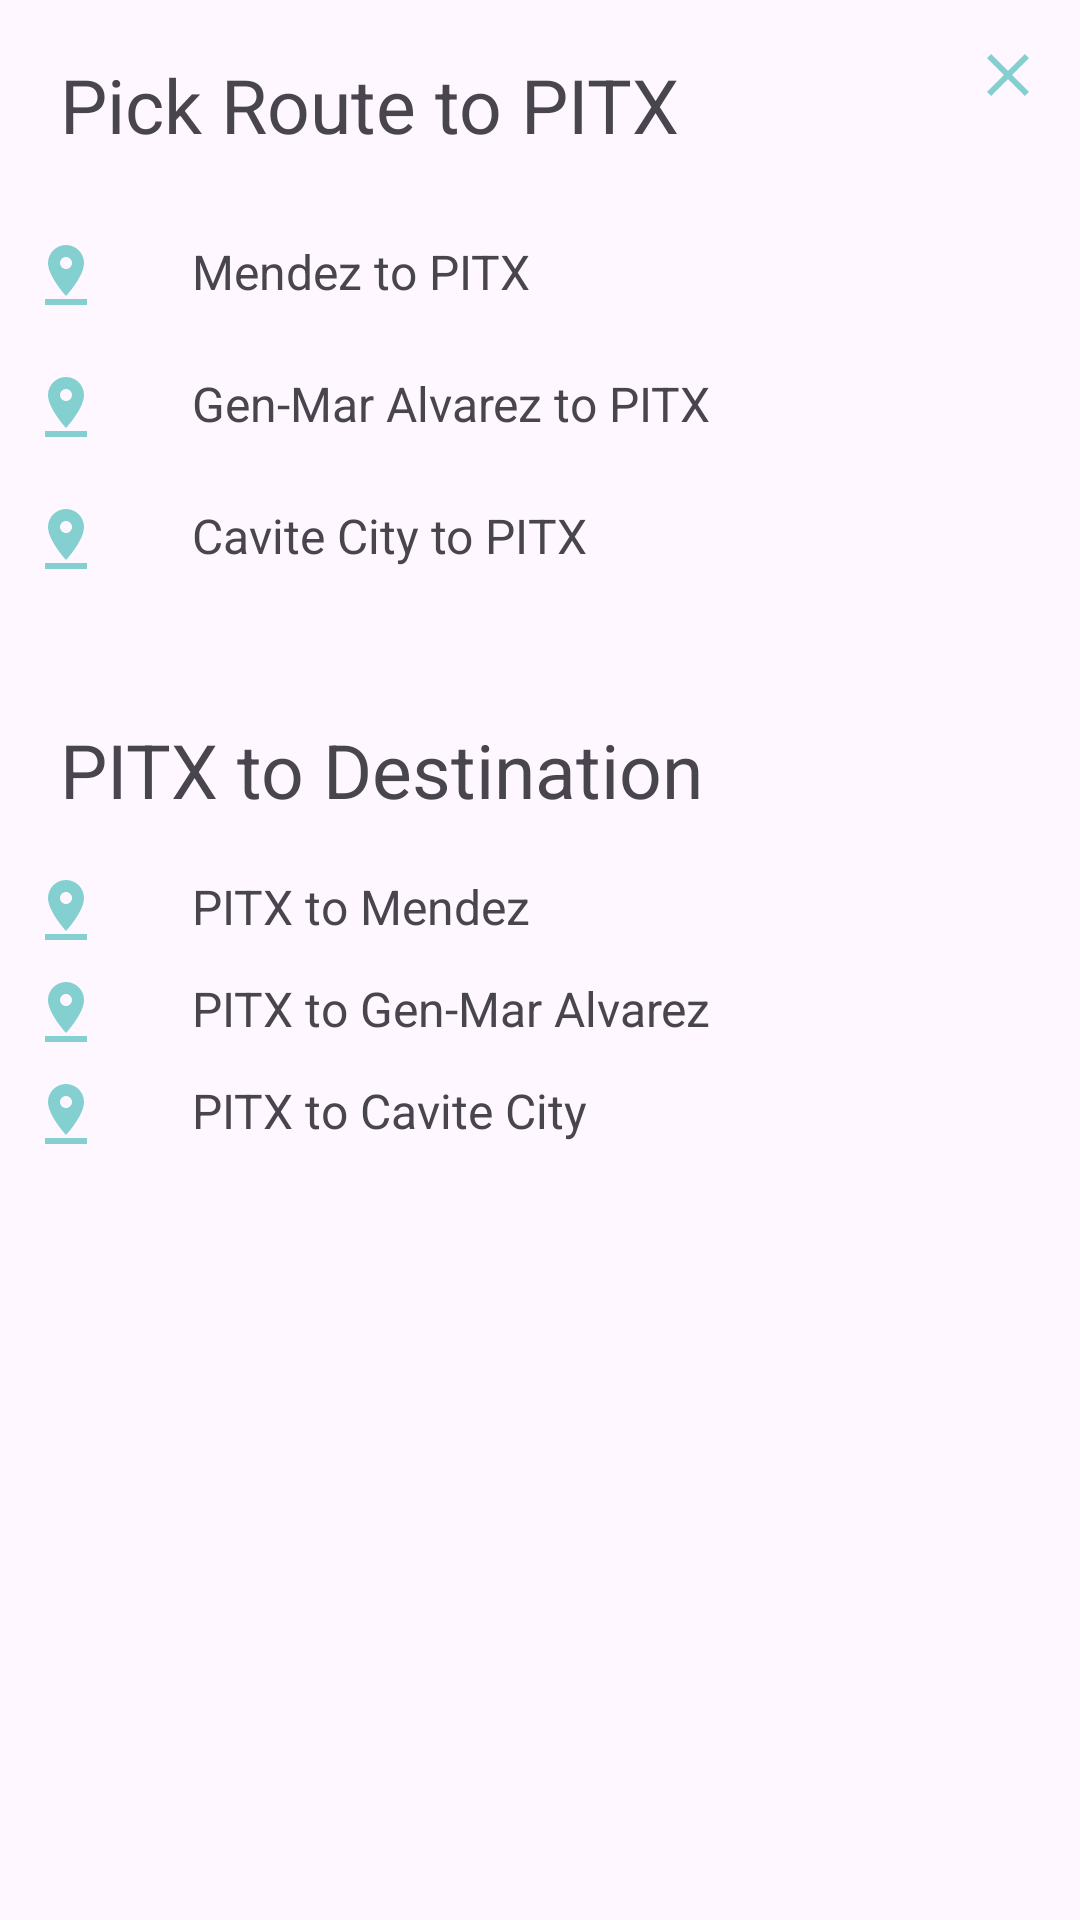

Screen size 1080*1920. Icon name, then its box in pixels as bbox(x1, y1, x2, y2):
clear: bbox(987, 54, 1029, 96)
pin drop: bbox(45, 245, 87, 305), bbox(45, 377, 87, 437), bbox(45, 509, 87, 569), bbox(45, 880, 87, 940), bbox(45, 982, 87, 1042), bbox(45, 1084, 87, 1144)
